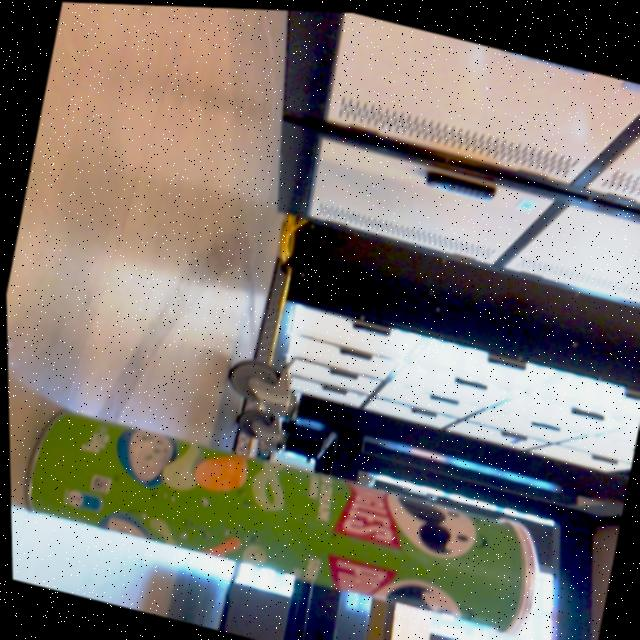greenpringles: (6, 365, 559, 640)
